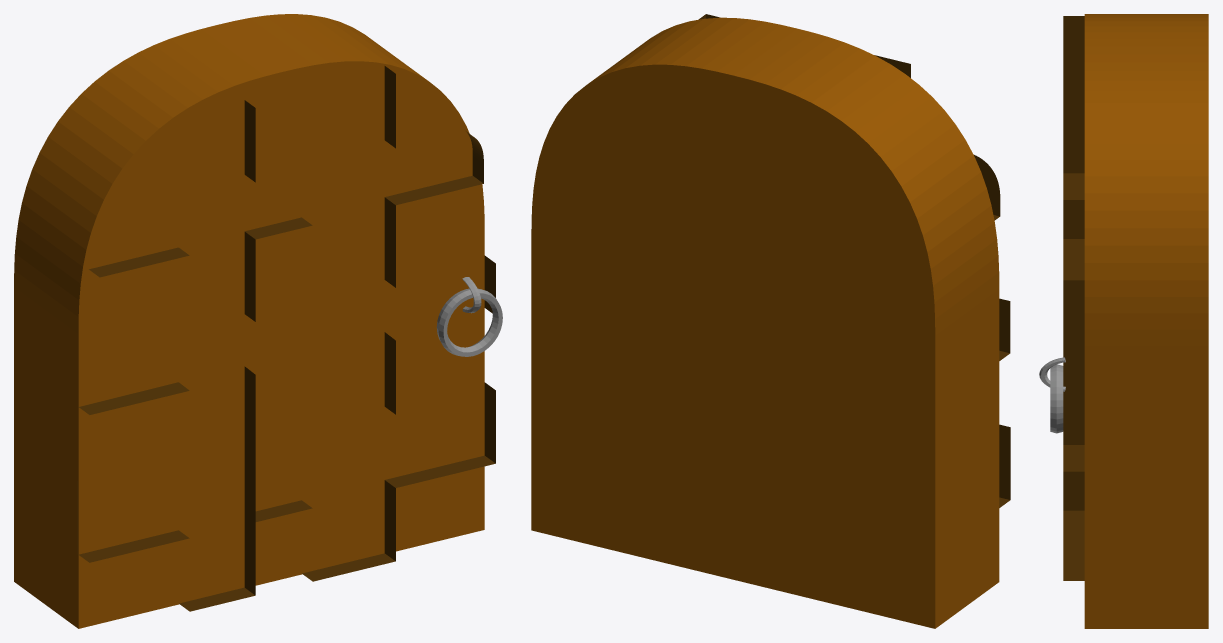
File: Door.fbx
3 renders of one model, left to right at view 1: azimuth 30°, elevation 25°; view 2: azimuth 150°, elevation 25°; view 3: azimuth 270°, elevation 25°, orthographic. The views are drawn at different scales.
Parts seen in each view (by area): view 1: Cube; view 2: Cube; view 3: Cube.
Boxes of the visible parts, x1,y1,x2,y2 form: Cube: (14,14,502,628); Cube: (531,14,1010,628); Cube: (1039,14,1208,628).
Bounding box in the file's own units: 184 × 219 × 68.88.
Materials: 3 (2 with a texture image).
